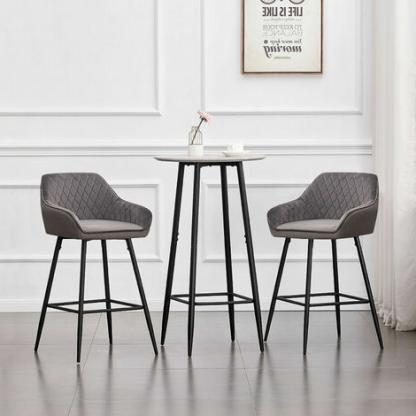chair: (16, 159, 160, 374), (262, 140, 394, 359)
table: (155, 145, 269, 366)
